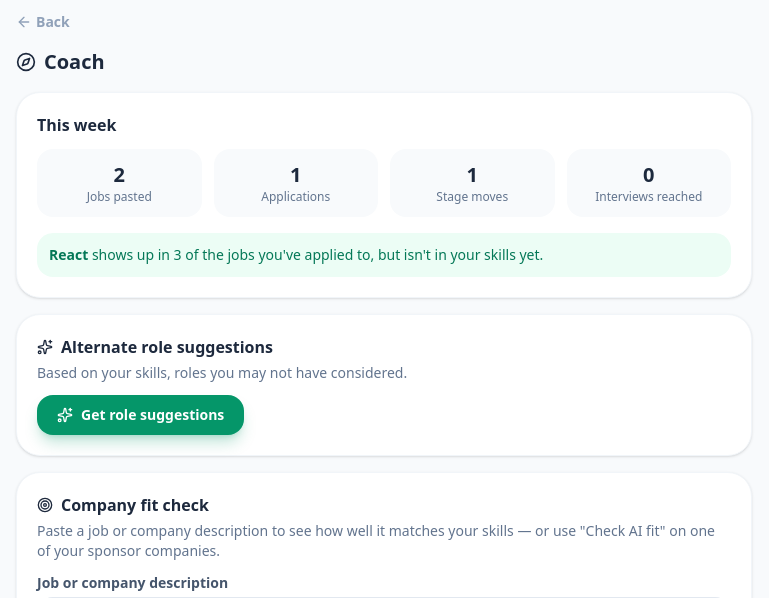
Coach › shows an error when getting role suggestions fails
The width and height of the screenshot is (769, 598).
Click the button "Get role suggestions" at (141, 415), box [37,395,244,435]
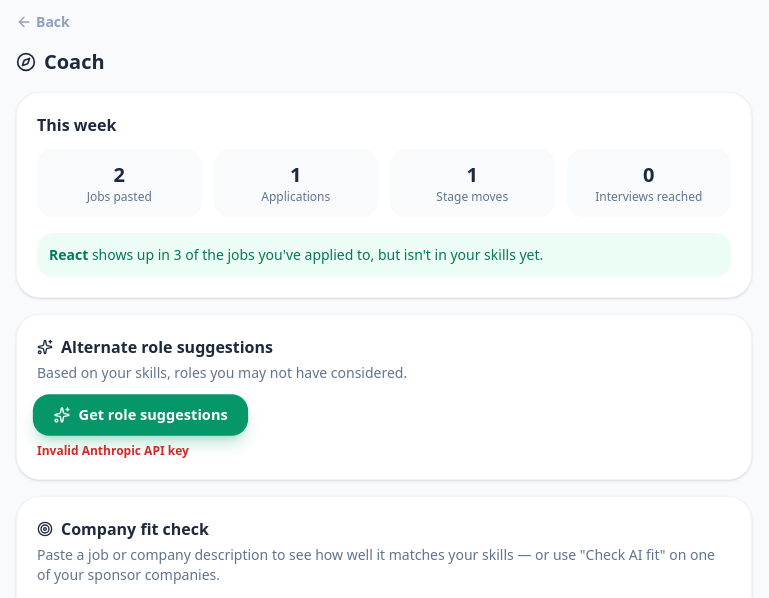
expect the message reads "Invalid Anthropic API key": met, box [37,442,189,459]
